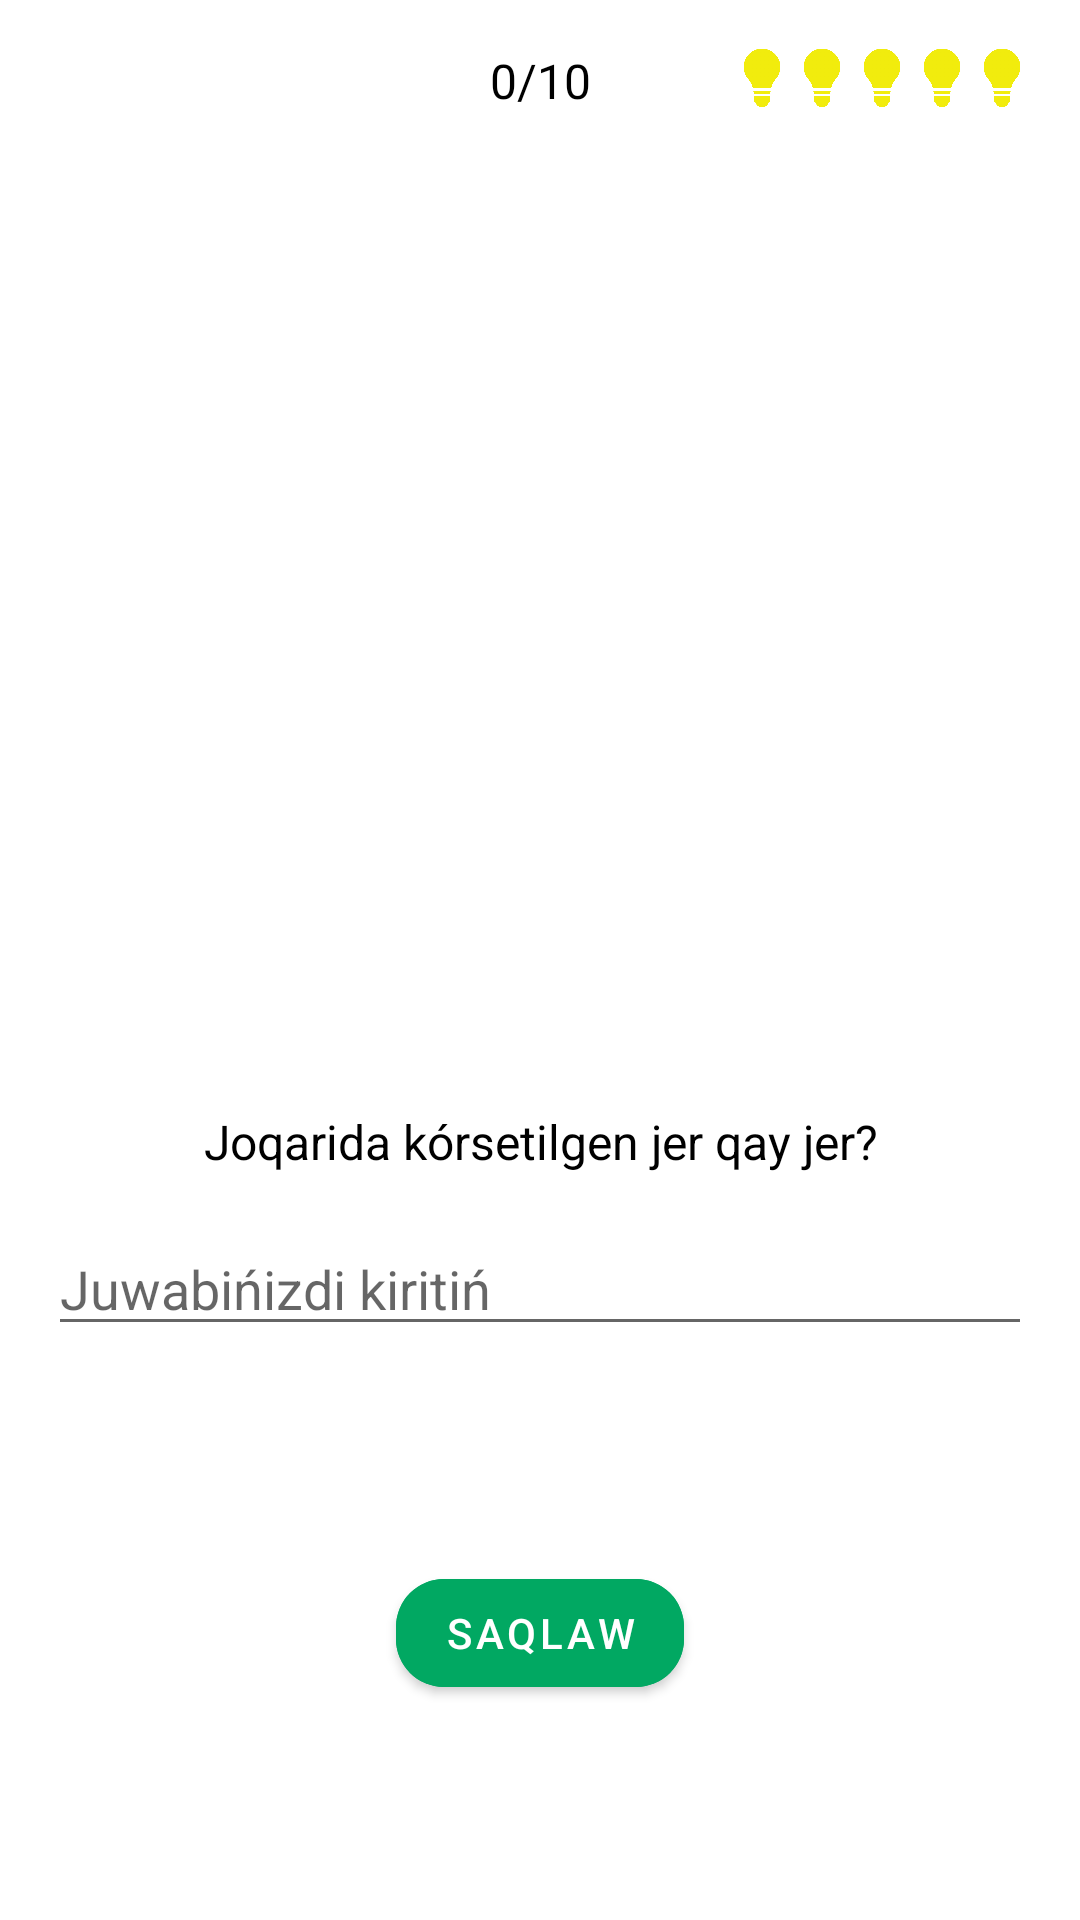

Point at icon controls on the screen. Image size 1080*1920, points as point (x, y).
bulb: point (762, 78), point (822, 78), point (882, 78), point (942, 78), point (1002, 78)
